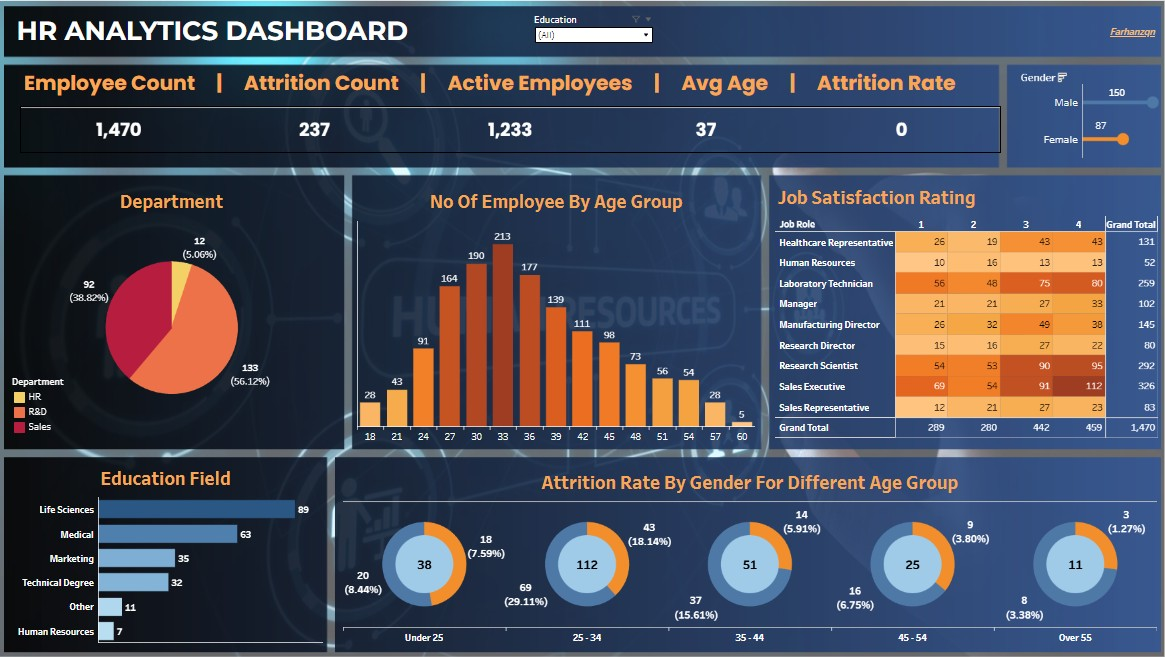

This screenshot's page, from the dashboard's own definition file:
{"tool":"tableau","page":{"name":"Dashboard 1","canvas":[1580,900],"ordinal":0},"visuals":[{"type":"image","param":"Image/Slide1.PNG","box":[8,8,1564,884]},{"type":"text","box":[36,10,702,86]},{"type":"text","box":[1494,12,67,86]},{"type":"filter","title":"Department","param":"[federated.1lu08fo1xxtz8u11cshv015amz56].[none:Education:nk]","box":[726,29,160,54]},{"type":"text","box":[46,91,1285,64]},{"type":"worksheet","title":"Attrition By Gender","mark":"Automatic","rows":["Gender"],"cols":["Calculation_0014166548217860","Calculation_0014166548217860"],"box":[1365,104,200,119]},{"type":"text","box":[1453,120,100,30]},{"type":"worksheet","title":"KPI","mark":"Automatic","box":[40,153,1308,63]},{"type":"text","box":[1432,165,100,30]},{"type":"worksheet","title":"Job Satisfaction Rating","mark":"Square","rows":["Job Role"],"cols":["Job Satisfaction"],"box":[1047,251,511,345]},{"type":"worksheet","title":"Department","mark":"Pie","box":[24,257,437,333]},{"type":"worksheet","title":"No Of Employee By Age Group","mark":"Automatic","rows":["Employee Count"],"cols":["Age (bin)"],"box":[490,257,531,345]},{"type":"legend","title":"Department","param":"[federated.1lu08fo1xxtz8u11cshv015amz56].[none:Department:nk]","box":[30,512,140,79]},{"type":"worksheet","title":"Education Field","mark":"Automatic","rows":["Education Field"],"cols":["Calculation_0014166548217860"],"box":[24,626,421,243]},{"type":"worksheet","title":"Attrition Rate By Gender For Different Age Group","mark":"Pie","rows":["Calculation_0014166601232395","Calculation_0014166601232395"],"cols":["CF_age band"],"box":[471,631,1086,240]}]}

Visuals, with their boxes in screenshot pixels (x1, y1, x2, y2), scaled from the page's 1580x900 canvas onto the 1165x657 screenshot:
image: [6, 6, 1159, 651]
text: [27, 7, 544, 70]
text: [1102, 9, 1151, 72]
"Department" filter: [535, 21, 653, 61]
text: [34, 66, 981, 113]
"Attrition By Gender" worksheet: [1006, 76, 1154, 163]
text: [1071, 88, 1145, 110]
"KPI" worksheet: [29, 112, 994, 158]
text: [1056, 120, 1130, 142]
"Job Satisfaction Rating" worksheet (Square marks): [772, 183, 1149, 435]
"Department" worksheet (Pie marks): [18, 188, 340, 431]
"No Of Employee By Age Group" worksheet: [361, 188, 753, 439]
"Department" legend: [22, 374, 125, 431]
"Education Field" worksheet: [18, 457, 328, 634]
"Attrition Rate By Gender For Different Age Group" worksheet (Pie marks): [347, 461, 1148, 636]
